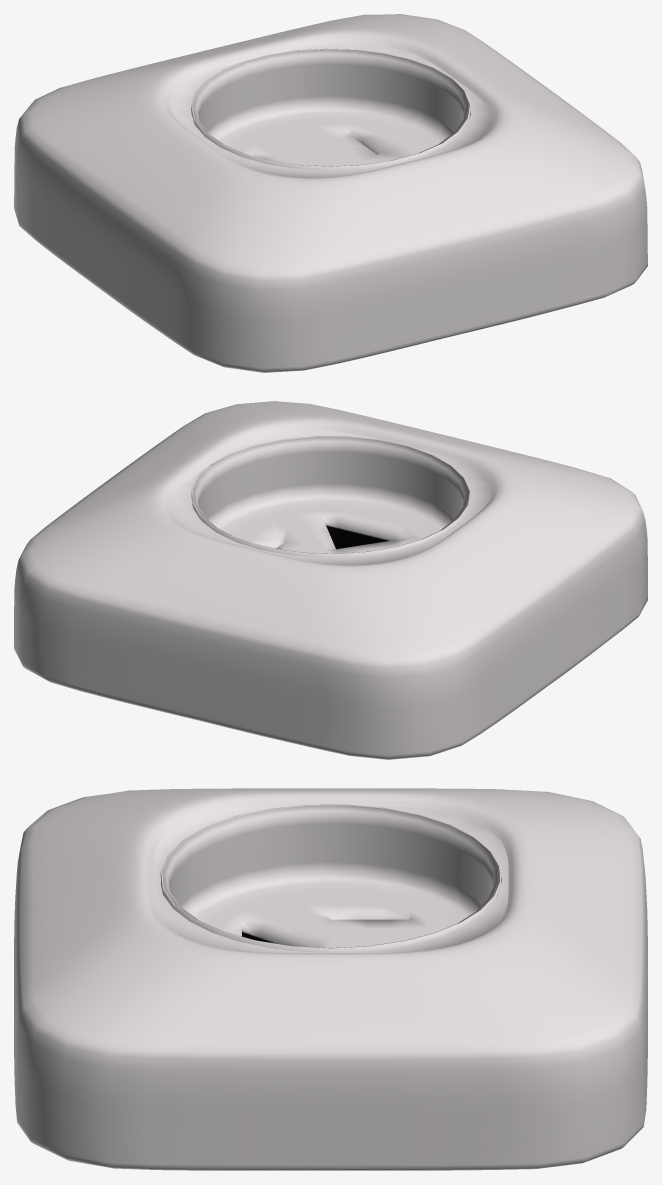
Rendered from Розетка_запёкшаяся.fbx.
3 renders of one model, top to bottom at view 1: azimuth 30°, elevation 25°; view 2: azimuth 150°, elevation 25°; view 3: azimuth 270°, elevation 25°, orthographic. The views are drawn at different scales.
Visible parts, largest first — view 1: Розетка; view 2: Розетка; view 3: Розетка.
Part boxes in pixels (left/top/right/bottom): Розетка: left=14, top=14, right=647, bottom=372; Розетка: left=14, top=401, right=647, bottom=759; Розетка: left=14, top=788, right=647, bottom=1170.
Size of the model in its own units: 200 by 59.37 by 200.
1 material, 1 textured.
